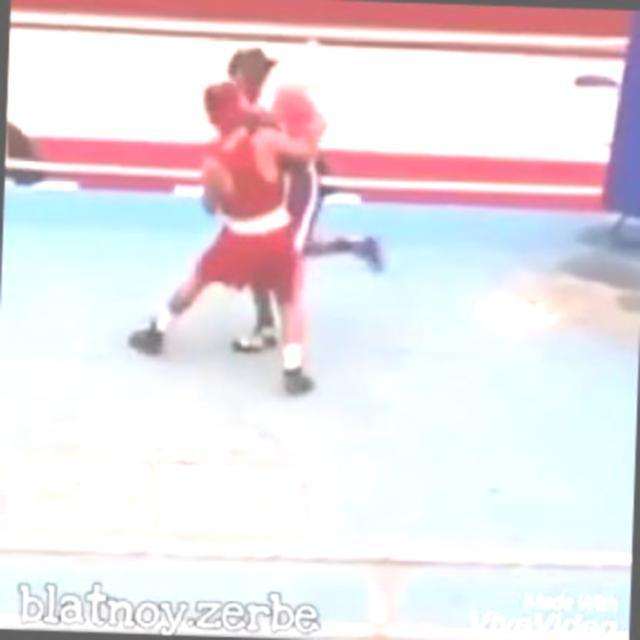fight: (169, 38, 345, 394)
